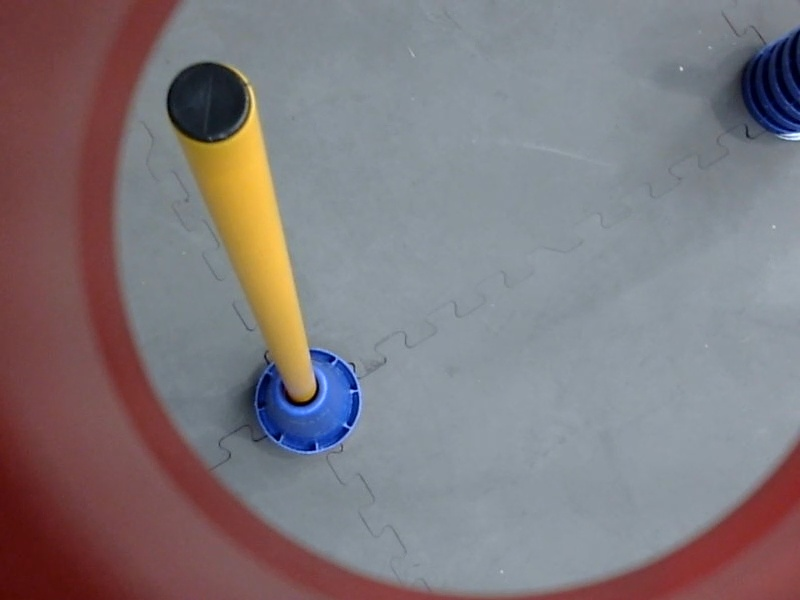tip: (161, 54, 253, 149)
